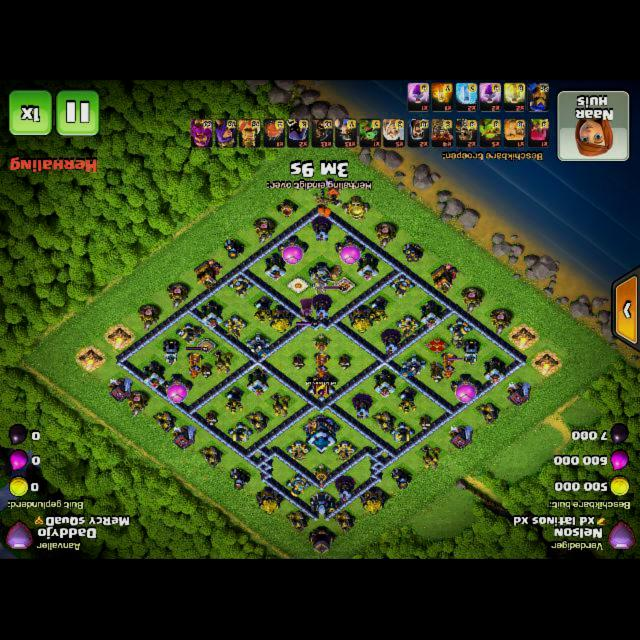AD: (369, 296, 388, 325), (254, 297, 273, 325), (225, 388, 244, 416), (398, 388, 417, 416)
AirSweeper: (312, 464, 331, 489), (312, 334, 331, 354)
BombTower: (464, 341, 480, 367), (164, 341, 179, 367)
Canon: (228, 276, 253, 299), (390, 276, 415, 299), (286, 475, 311, 498), (177, 324, 203, 346), (447, 320, 472, 342), (390, 423, 415, 444), (228, 423, 253, 444)
ClanCastle: (308, 372, 336, 403)
Eagle: (308, 263, 335, 297)
Inferno: (441, 354, 457, 380), (187, 354, 203, 380), (314, 353, 330, 379)
KingPad: (334, 279, 356, 295)
Mortar: (224, 239, 246, 261), (230, 469, 252, 491), (391, 469, 413, 491), (403, 243, 425, 263)
QueenPad: (425, 338, 448, 355)
RcPad: (196, 340, 215, 354)
Scattershot: (400, 355, 426, 378), (246, 333, 269, 358)
TH13: (306, 416, 338, 455)
WardenPad: (289, 279, 309, 294)
WizzTower: (312, 217, 331, 243), (336, 477, 355, 503), (354, 395, 372, 421), (314, 295, 332, 320), (383, 330, 401, 355)
Xbow: (223, 316, 248, 340), (396, 316, 421, 340), (332, 443, 357, 465), (287, 443, 312, 464)
